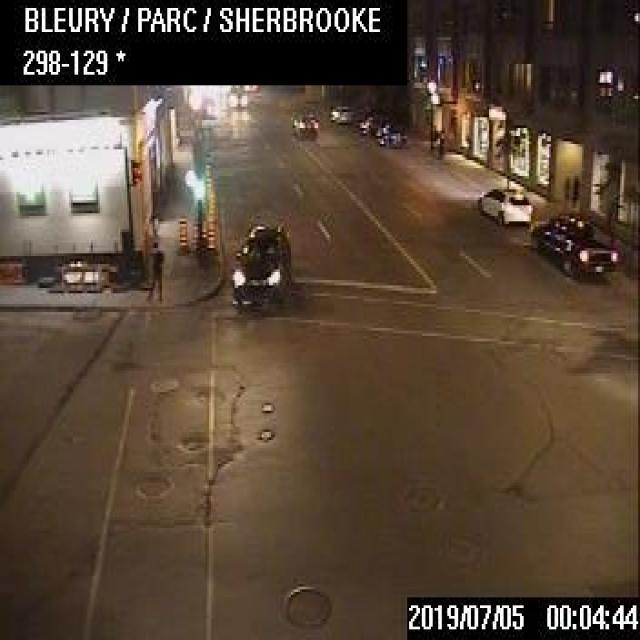construction: (174, 215, 188, 255), (205, 215, 214, 251), (206, 190, 214, 218), (190, 219, 197, 250), (203, 174, 211, 197), (199, 212, 205, 238), (202, 160, 209, 176)
pedestrian: (144, 240, 164, 301), (571, 172, 578, 205), (562, 171, 569, 202)
vehicle: (528, 210, 615, 278), (227, 220, 291, 307), (477, 186, 531, 223), (289, 106, 318, 136), (377, 122, 406, 147), (328, 102, 351, 124), (358, 111, 380, 133), (227, 84, 247, 105)
